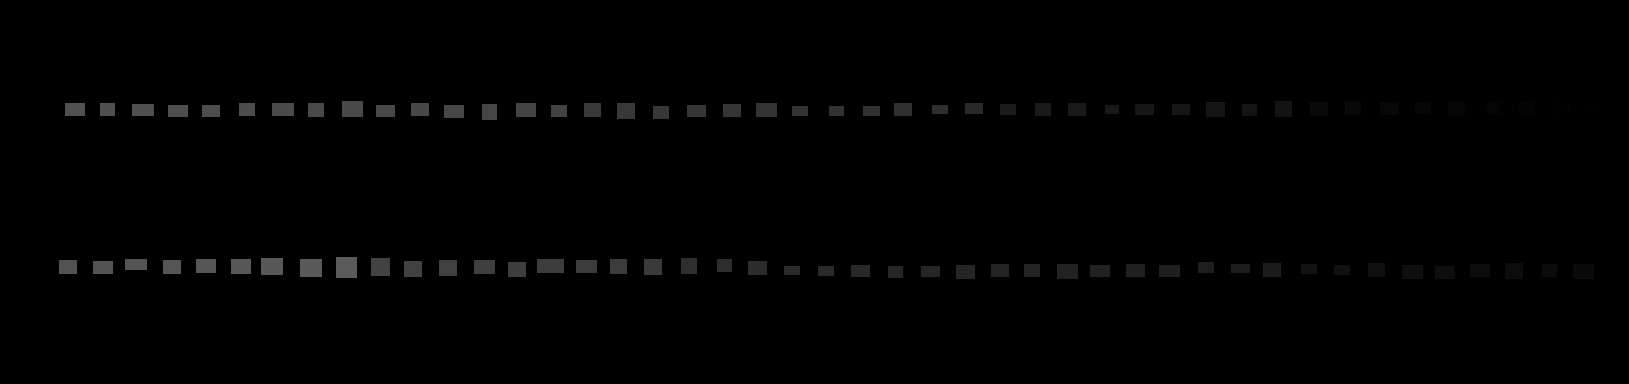light: (336, 257, 357, 278), (300, 259, 322, 277), (537, 259, 564, 273), (261, 258, 283, 275), (342, 101, 363, 117), (1057, 264, 1078, 279), (371, 258, 390, 276), (1573, 264, 1594, 279), (1403, 265, 1423, 279), (756, 103, 777, 117), (231, 259, 251, 274), (272, 103, 294, 116), (1505, 263, 1523, 279), (1275, 101, 1292, 117), (617, 103, 635, 119), (404, 260, 422, 277), (1206, 102, 1225, 117), (516, 103, 536, 117), (1435, 266, 1456, 279), (474, 260, 495, 274), (444, 105, 464, 118), (644, 259, 662, 275), (508, 262, 526, 277), (439, 260, 457, 276), (956, 265, 974, 279), (748, 260, 767, 275), (576, 260, 597, 273), (132, 104, 154, 116), (1470, 264, 1490, 277), (65, 103, 85, 116), (94, 260, 113, 274), (196, 259, 216, 273), (1448, 101, 1465, 116), (1159, 265, 1180, 277), (680, 258, 697, 274), (1310, 102, 1328, 116), (1263, 263, 1281, 277), (610, 259, 627, 274), (1380, 102, 1398, 115), (1126, 264, 1145, 277), (1090, 265, 1110, 277), (687, 105, 706, 117), (168, 105, 188, 117), (1368, 263, 1385, 277), (584, 103, 600, 117), (482, 104, 497, 120), (308, 103, 324, 117), (1068, 103, 1086, 116), (991, 264, 1009, 277), (894, 103, 912, 116), (723, 104, 741, 117), (411, 103, 429, 116), (59, 260, 77, 274), (163, 260, 181, 274), (851, 265, 870, 277), (376, 105, 395, 117), (202, 105, 220, 117), (1519, 102, 1534, 116), (1345, 101, 1361, 115), (125, 259, 146, 270), (1134, 104, 1154, 115), (1035, 103, 1051, 116), (922, 266, 940, 277), (1542, 264, 1557, 277), (1024, 264, 1040, 277), (653, 106, 669, 119), (239, 103, 255, 116), (100, 103, 115, 116), (551, 105, 567, 117), (1172, 104, 1190, 115), (965, 103, 983, 114), (1554, 102, 1570, 114), (1415, 102, 1431, 114), (1241, 104, 1257, 116), (717, 259, 732, 272), (1198, 262, 1214, 273), (1486, 102, 1500, 114), (888, 266, 903, 278), (1000, 104, 1016, 115), (1231, 264, 1250, 273), (1301, 264, 1317, 274), (818, 266, 834, 276), (863, 106, 880, 116), (792, 106, 808, 116), (1334, 265, 1350, 275), (932, 105, 949, 114), (1587, 102, 1601, 113), (829, 106, 844, 116), (784, 266, 800, 275), (1105, 105, 1119, 114)
